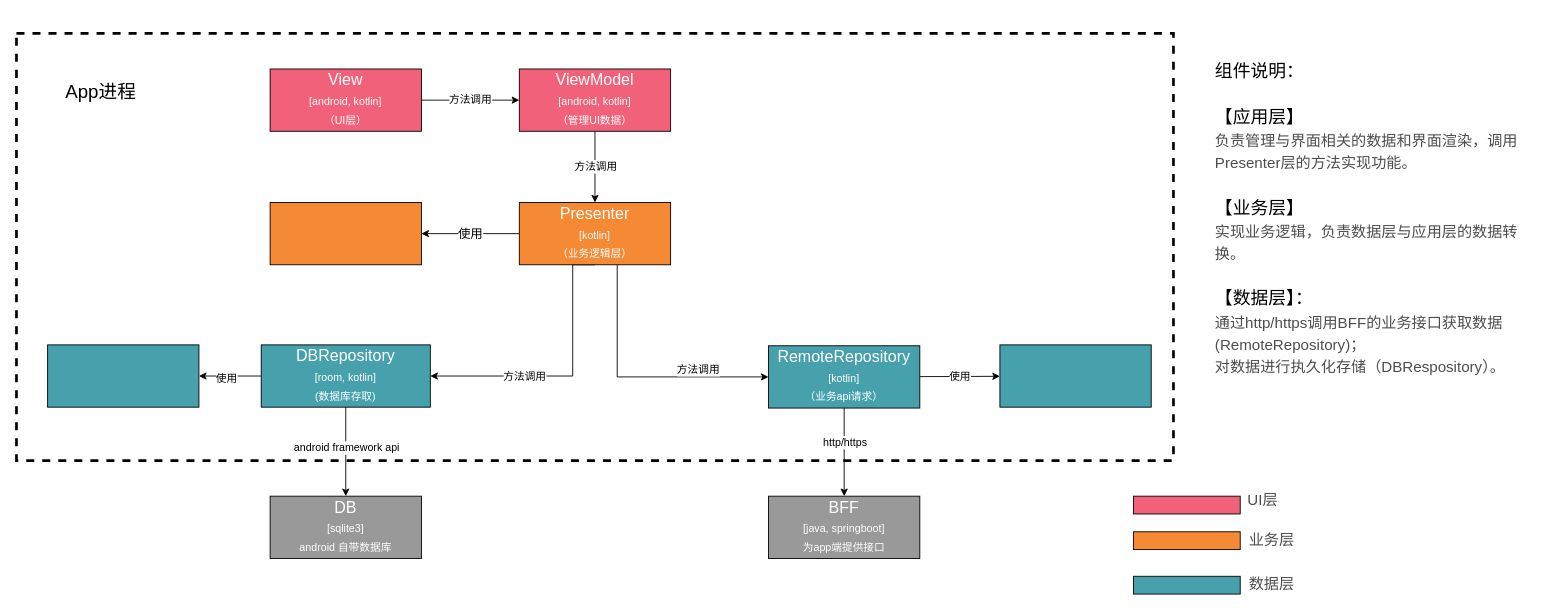
Some shapes in this 1549 by 613 pixel diagram are drawn without their labels. The centre of each missing label's shape, as x and y in pixels:
"Entity （数据库表实体）" belongs at (123,375).
"Model [kotlin] (业务模型)" belongs at (345,233).
"RequestDTO ResponseDTO" belongs at (1075,375).
